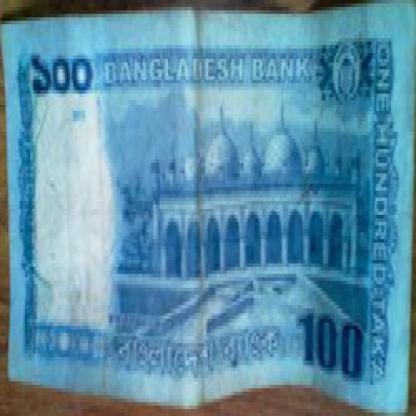one hundred taka: (295, 302, 366, 381), (25, 48, 96, 100)
